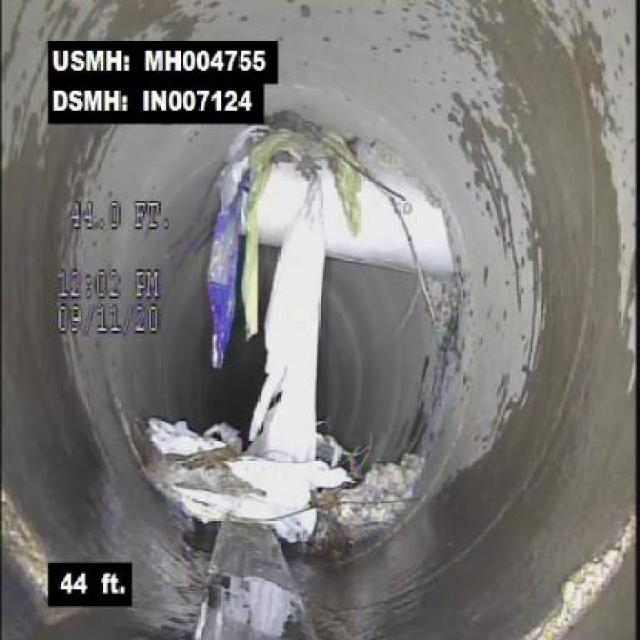Debris: (338, 443, 438, 545)
Obstacle: (138, 377, 337, 545)
